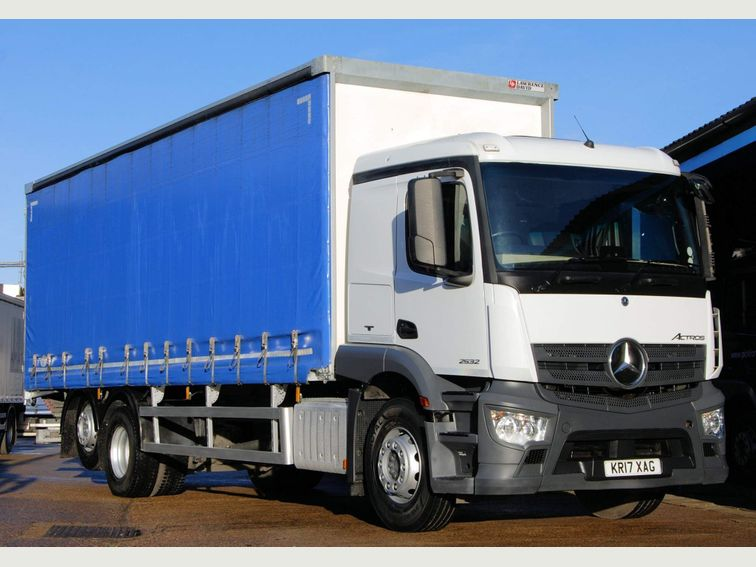Semi: (23, 53, 727, 529)
